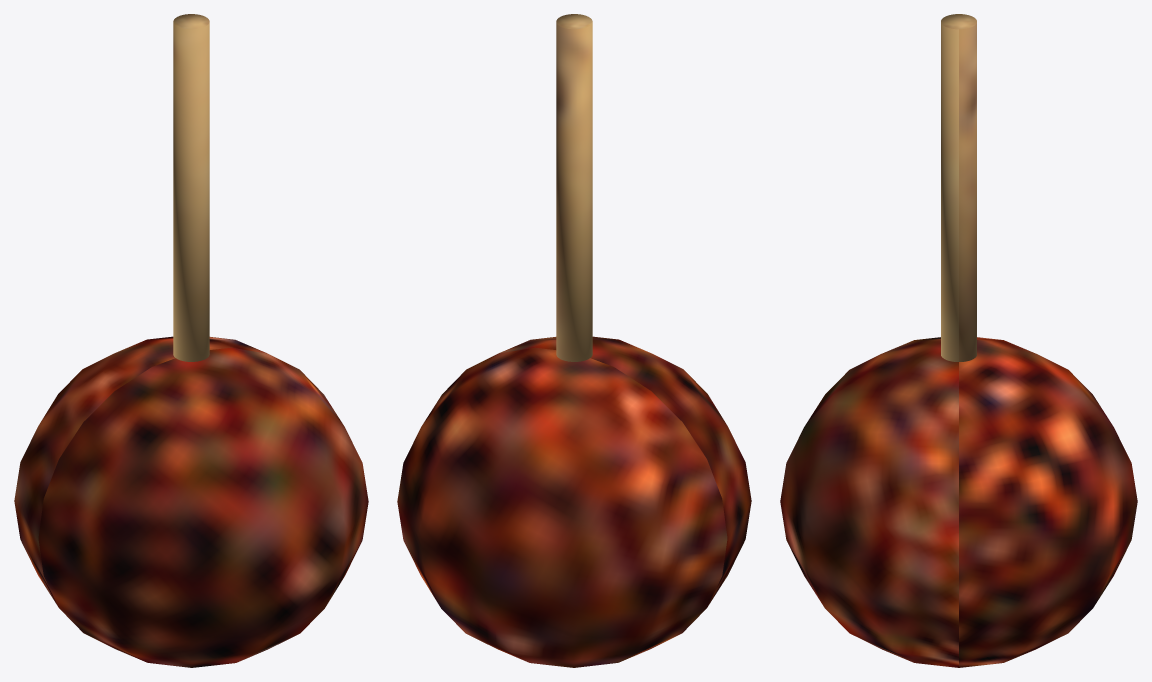
The model's file is AL_ManzanaChile.fbx.
3 renders of one model, left to right at view 1: azimuth 30°, elevation 25°; view 2: azimuth 150°, elevation 25°; view 3: azimuth 270°, elevation 25°, orthographic.
Visible parts, largest first — view 1: Sphere; view 2: Sphere; view 3: Sphere.
Boxes of the visible parts, bbox=[...] form: Sphere: bbox=[14, 14, 368, 667]; Sphere: bbox=[397, 14, 751, 667]; Sphere: bbox=[780, 14, 1137, 667].
Bounding box in the file's own units: 0.1974 × 0.3833 × 0.1953.
